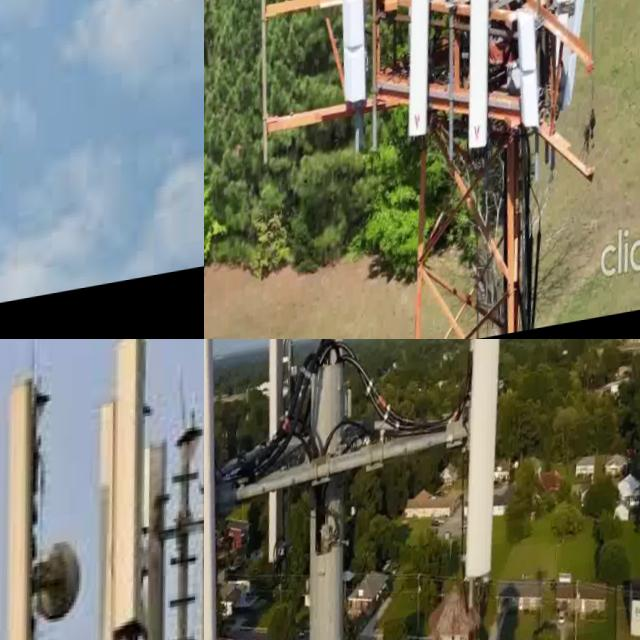GSM Antenna: (94, 339, 171, 640), (0, 370, 61, 640), (455, 0, 513, 171), (471, 339, 508, 598), (396, 0, 454, 156), (509, 10, 559, 147), (204, 339, 226, 640), (330, 0, 383, 116), (180, 423, 204, 640)
Microwave Antenna: (248, 339, 310, 583), (39, 523, 96, 640), (319, 339, 359, 429)
